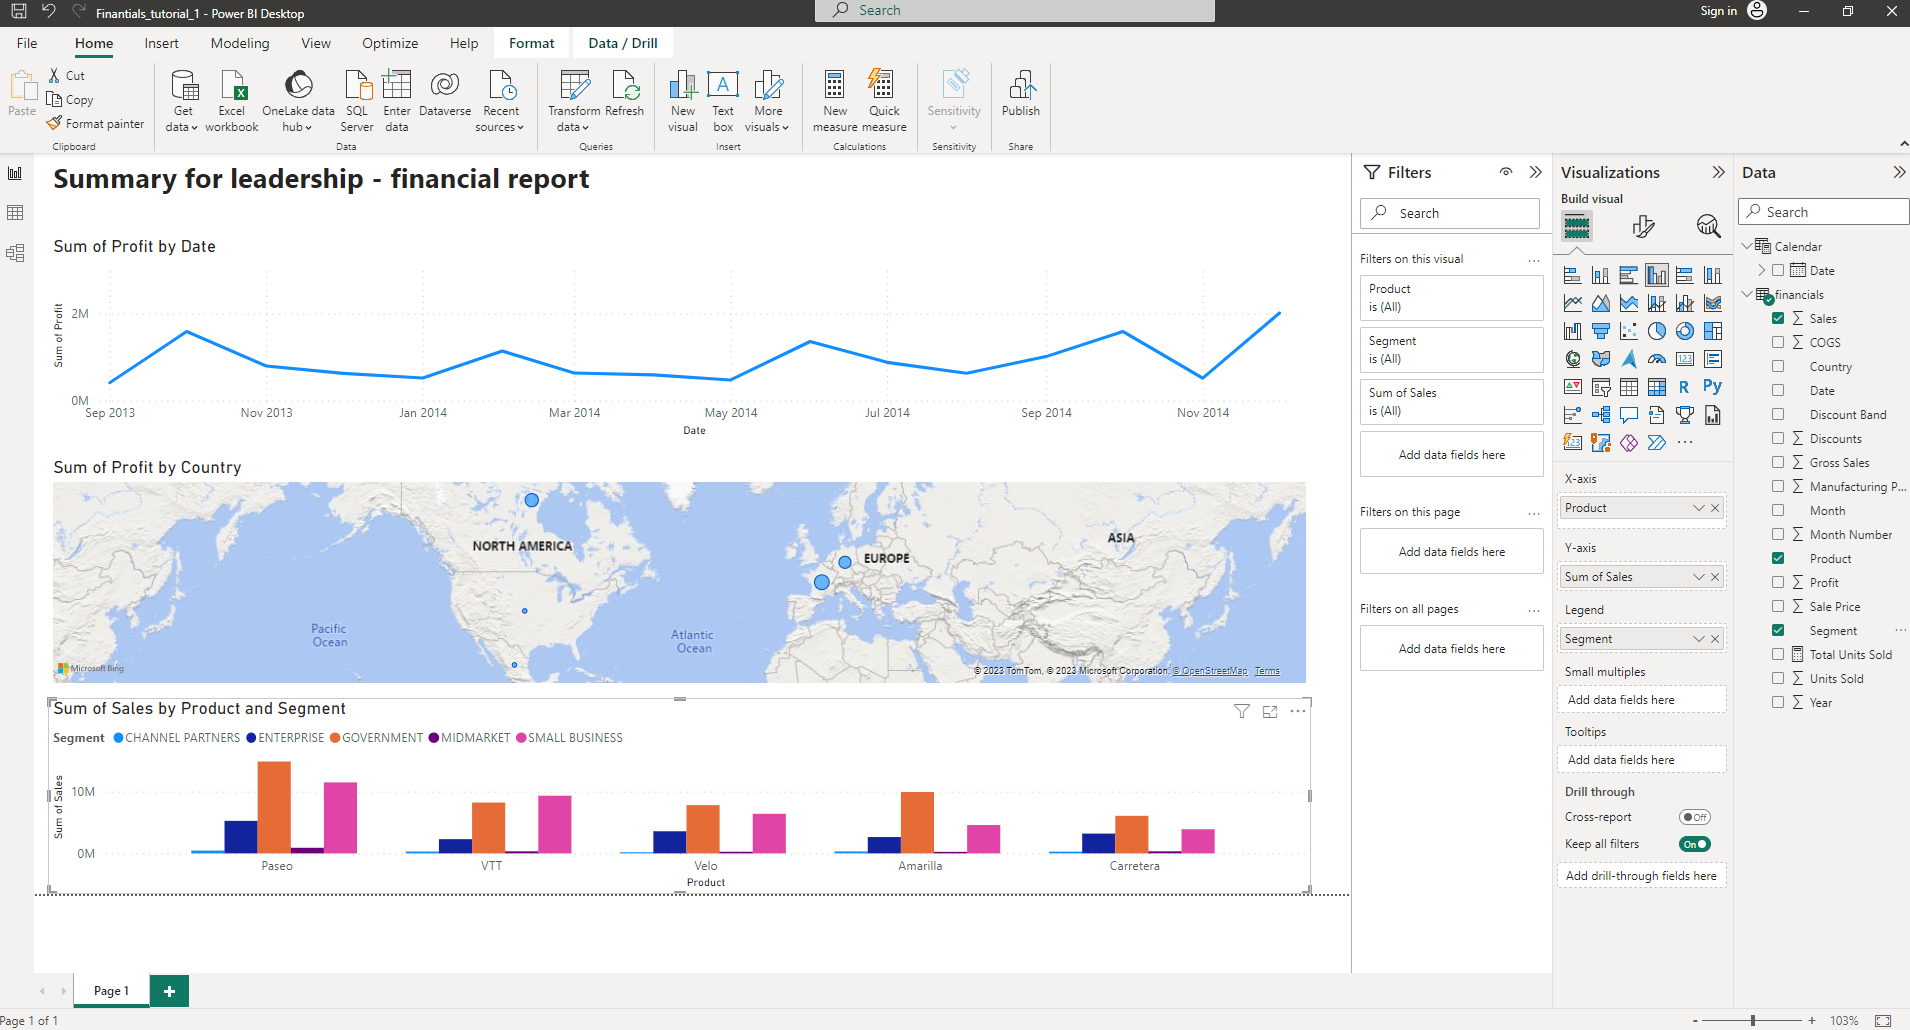

The dashboard page shown, as its layout file describes it:
{"tool":"powerbi","page":{"name":"Page 1","canvas":[1280,720],"ordinal":0},"visuals":[{"type":"textbox","box":[13.6,0,555,63.2],"z":0},{"type":"lineChart","fields":{"Category":["Calendar.Date"],"Y":["Sum(financials.Profit)"]},"box":[13.6,80.7,1227.5,199.2],"z":1000},{"type":"map","fields":{"Category":["financials.Country"],"Size":["Sum(financials.Profit)"]},"box":[13.6,295.5,1227.5,224.5],"z":2000},{"type":"clusteredColumnChart","fields":{"Y":["Sum(financials. Sales)"],"Category":["financials.Product"],"Series":["financials.Segment"]},"box":[13.6,530,1227.5,190],"z":2001}]}

Visuals, with their boxes on the page's 1280x720 design canvas (x1, y1, x2, y2). These are canvas units, not pixel positions in the 1910x1030 screenshot, which may show the page scaled, cropped or inside an application window:
textbox: {"x1": 14, "y1": 0, "x2": 569, "y2": 63}
lineChart - Calendar.Date x Sum(financials.Profit): {"x1": 14, "y1": 81, "x2": 1241, "y2": 280}
map - financials.Country x Sum(financials.Profit): {"x1": 14, "y1": 296, "x2": 1241, "y2": 520}
clusteredColumnChart - Sum(financials. Sales) x financials.Product: {"x1": 14, "y1": 530, "x2": 1241, "y2": 720}
